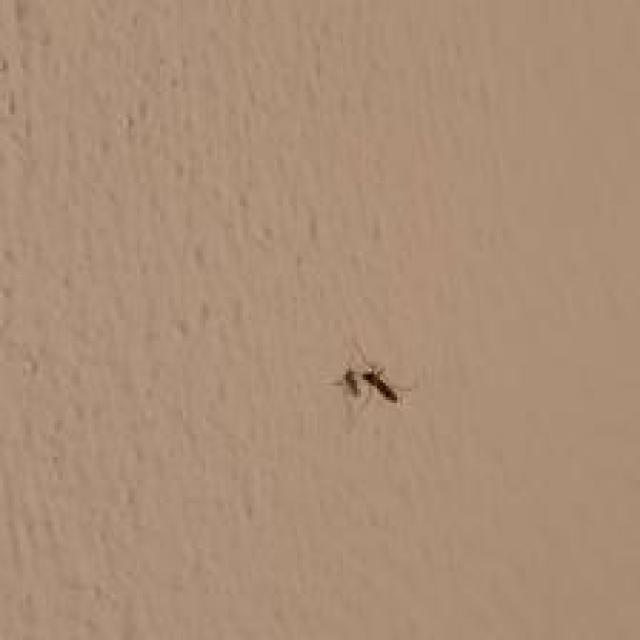Culex: (331, 336, 403, 407)
